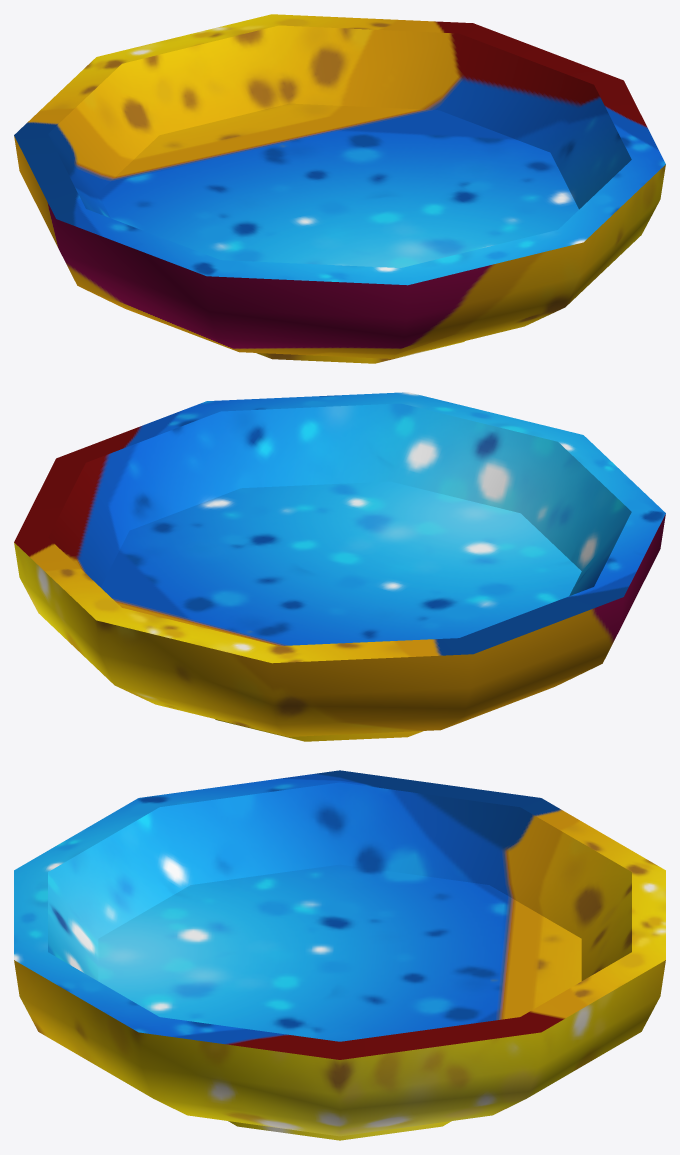
File: Powder_Dish_01.fbx
3 renders of one model, top to bottom at view 1: azimuth 30°, elevation 25°; view 2: azimuth 150°, elevation 25°; view 3: azimuth 270°, elevation 25°, orthographic. The views are drawn at different scales.
Parts seen in each view (by area): view 1: Powder_Dish_01; view 2: Powder_Dish_01; view 3: Powder_Dish_01.
Part boxes in pixels (x1=…): Powder_Dish_01: x1=14, y1=14, x2=665, y2=363; Powder_Dish_01: x1=14, y1=392, x2=665, y2=741; Powder_Dish_01: x1=14, y1=770, x2=665, y2=1140.
Bounding box in the file's own units: 64.82 × 16.14 × 61.65.
